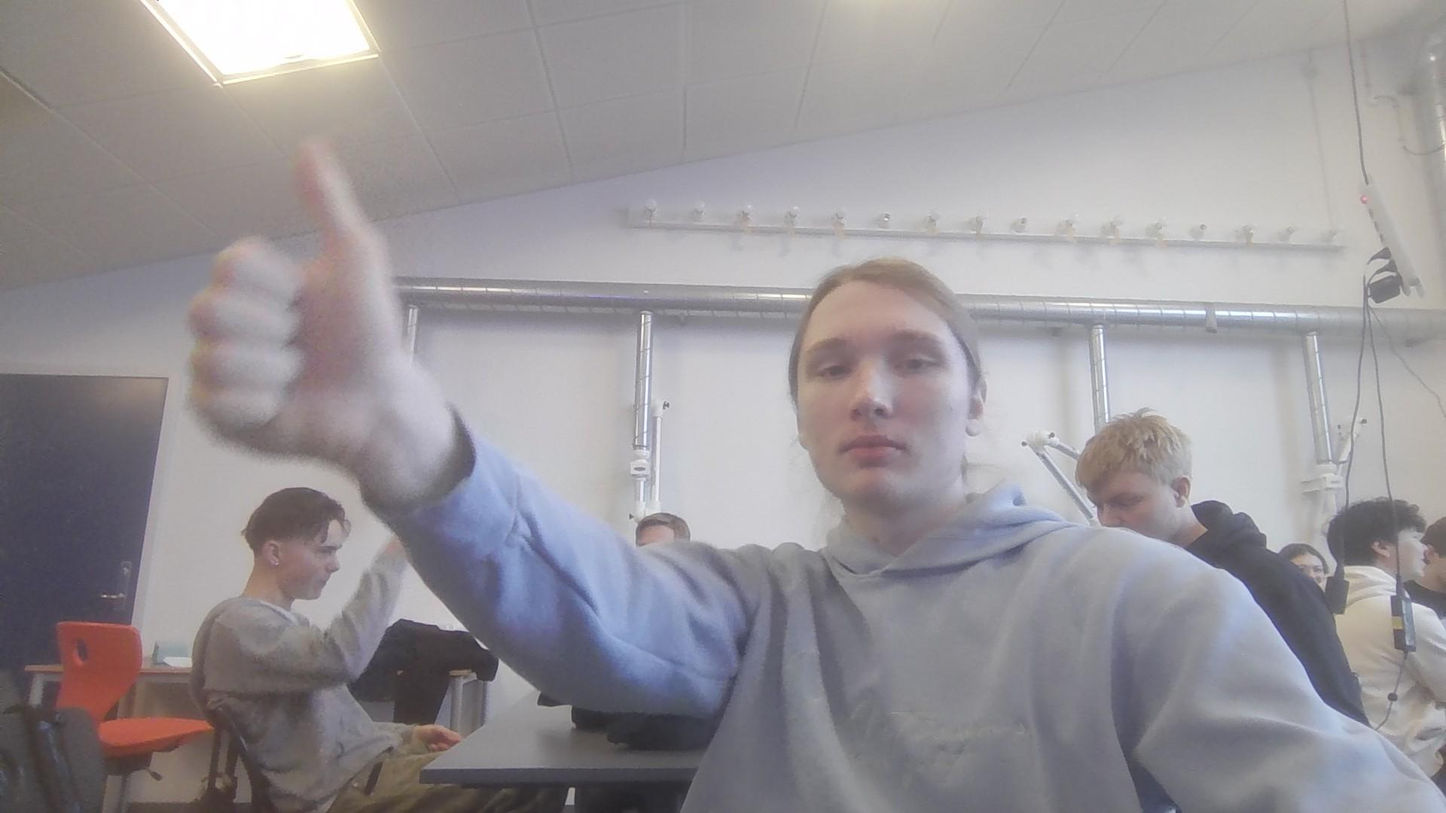thumbs up: (188, 144, 416, 461)
